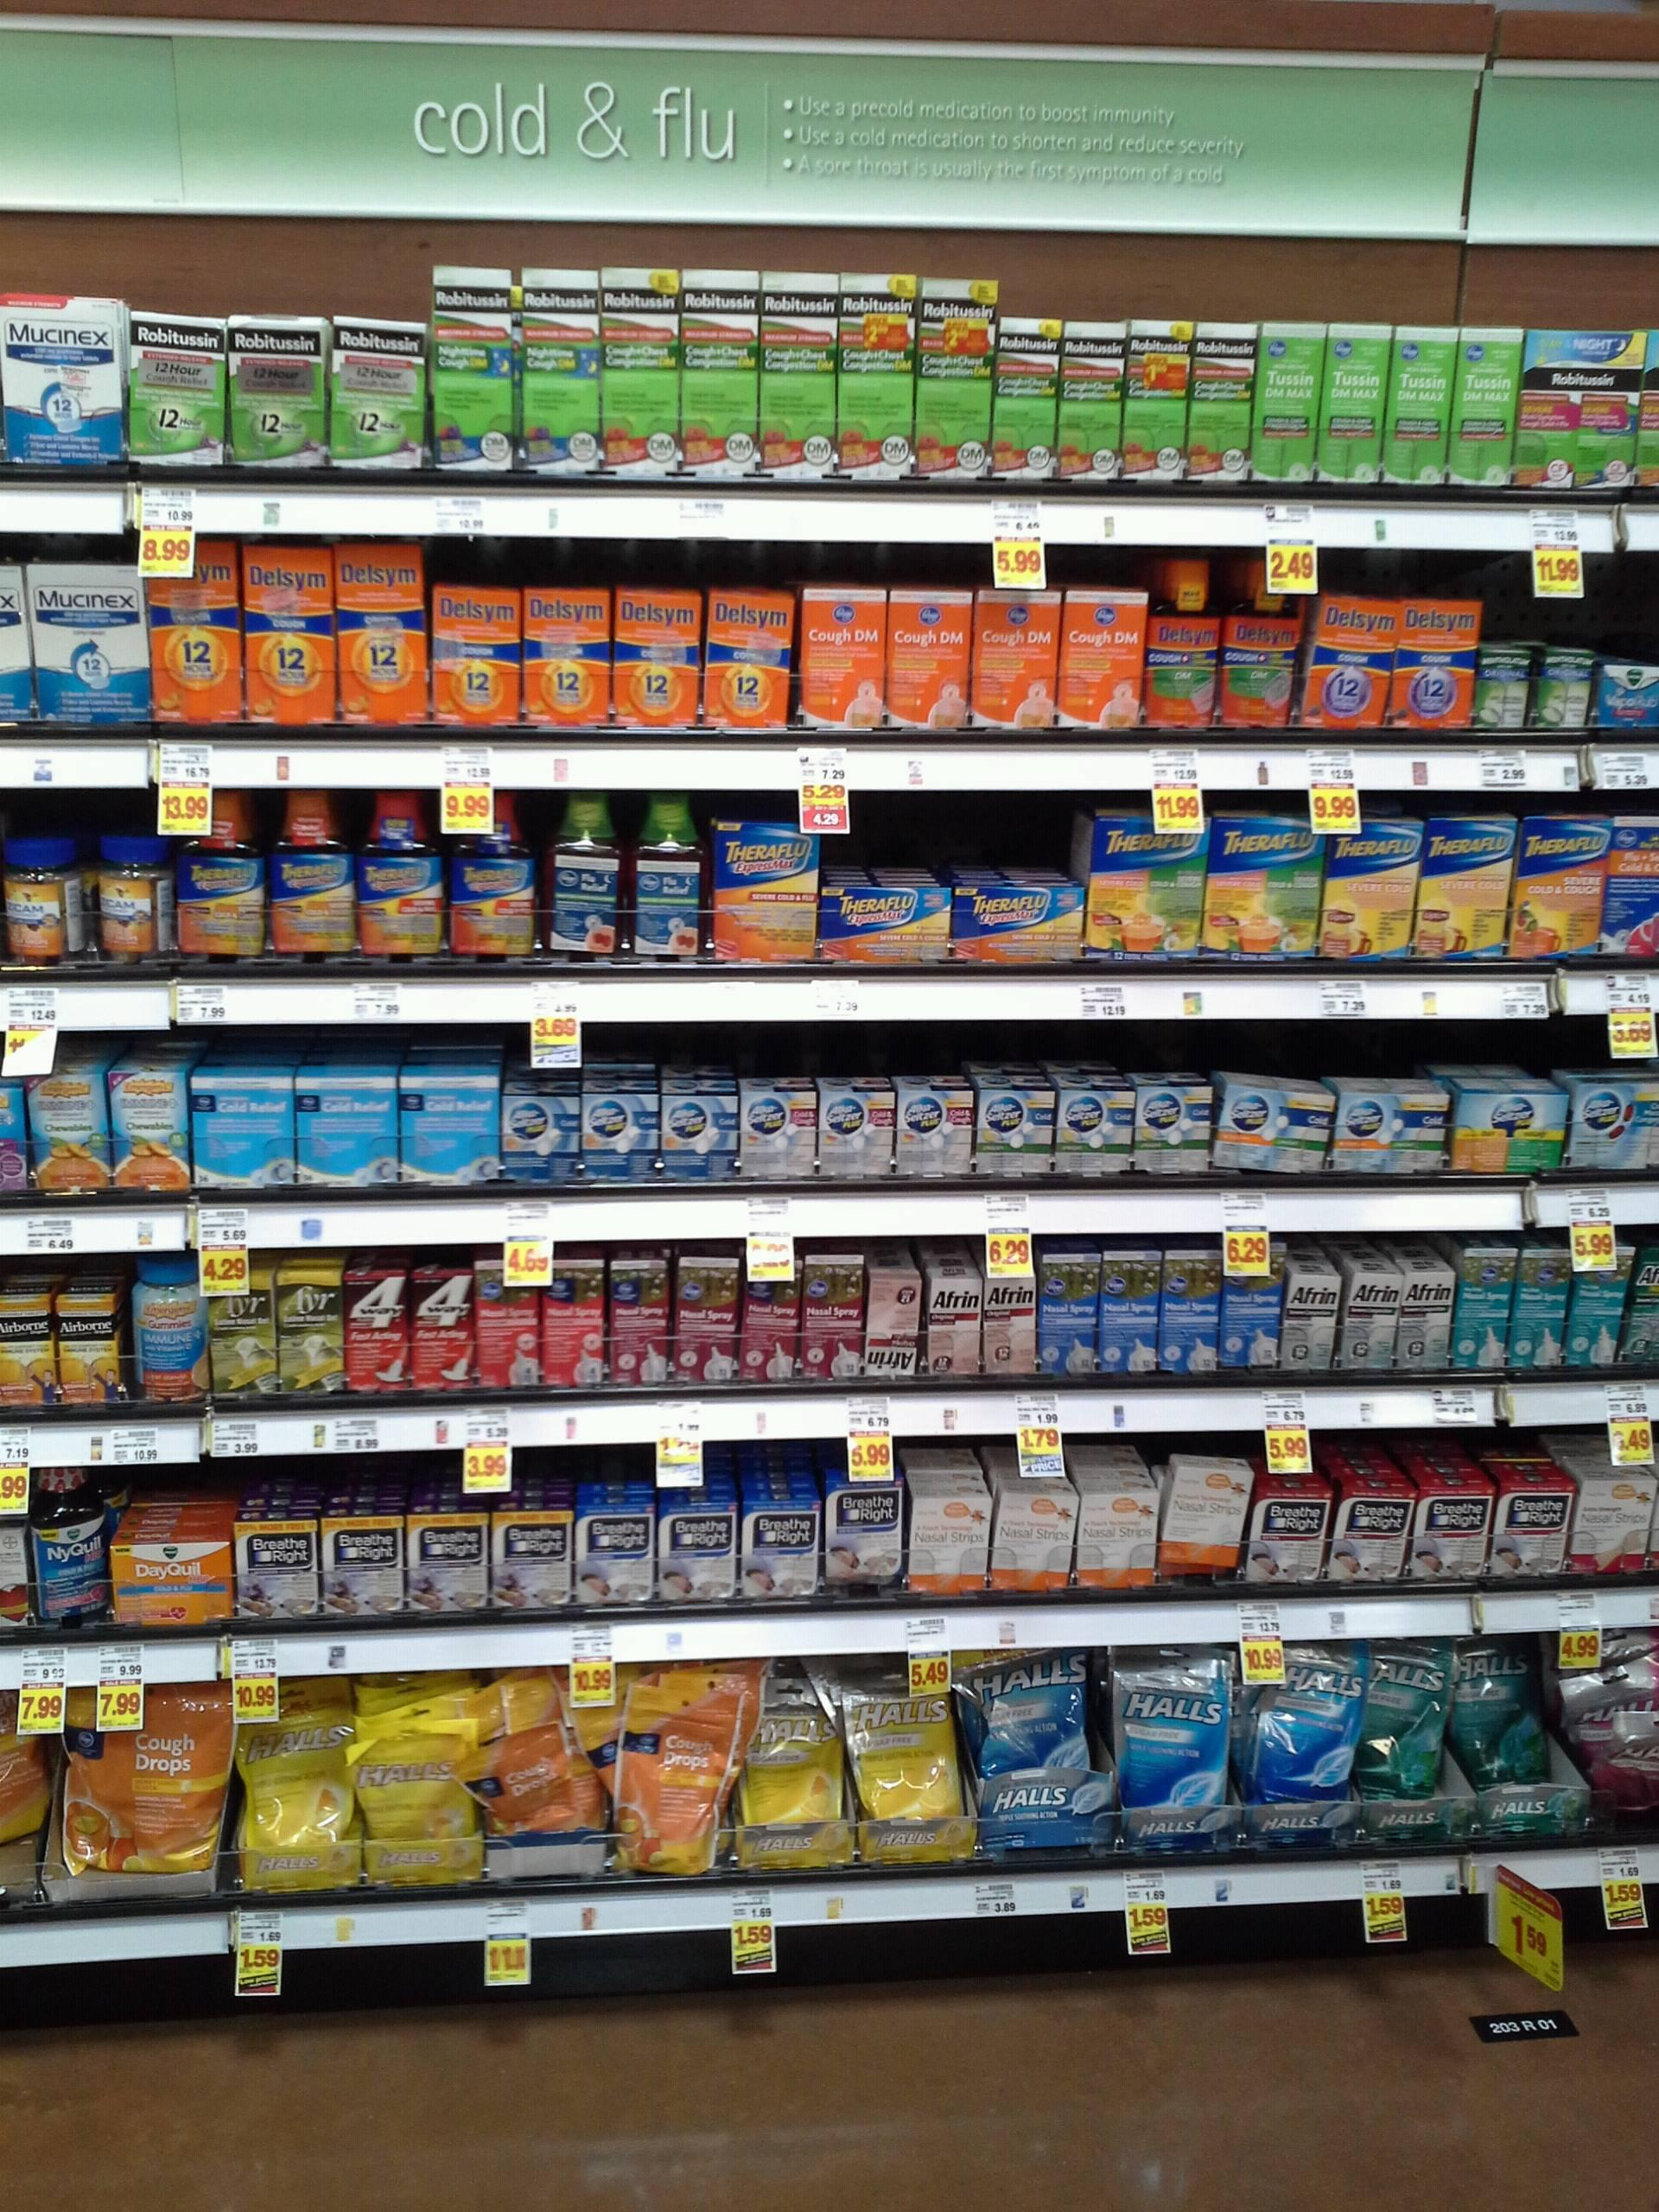misalignment: (457, 1724, 603, 1855), (1157, 1458, 1246, 1578), (864, 1256, 918, 1381)
